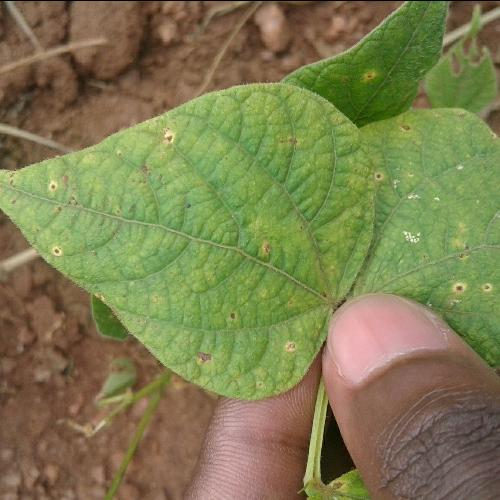hawar: (118, 100, 195, 186), (185, 292, 254, 372), (249, 212, 300, 274), (34, 165, 94, 209), (264, 322, 318, 368), (42, 236, 76, 264)
